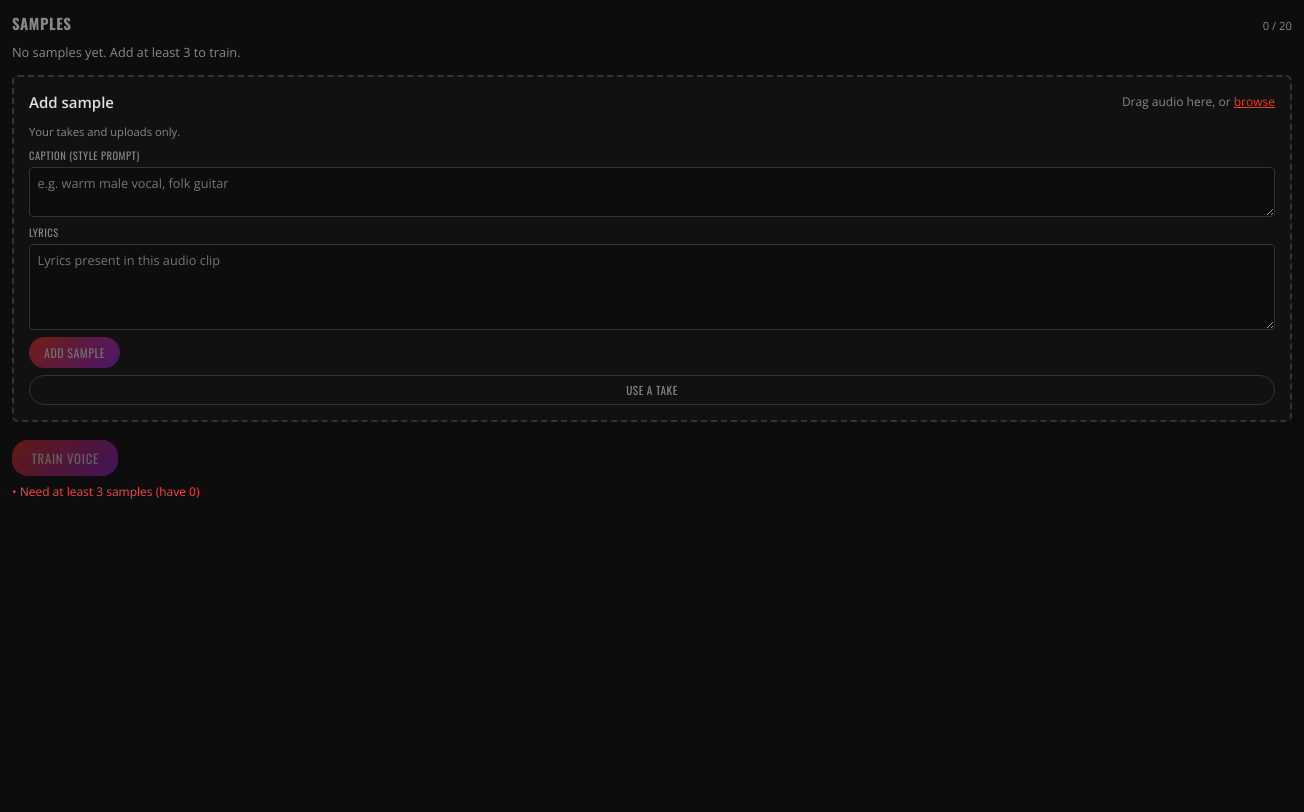
Test: LoraDetail › keeps the server 409 sentence visible when copying a take is rejected
The image size is (1304, 812).
What coordinates should you click on to do the following:
click the button with class "own-takes-toggle"
I would click on:
 (652, 390)
Its box is [29,375,1275,405].
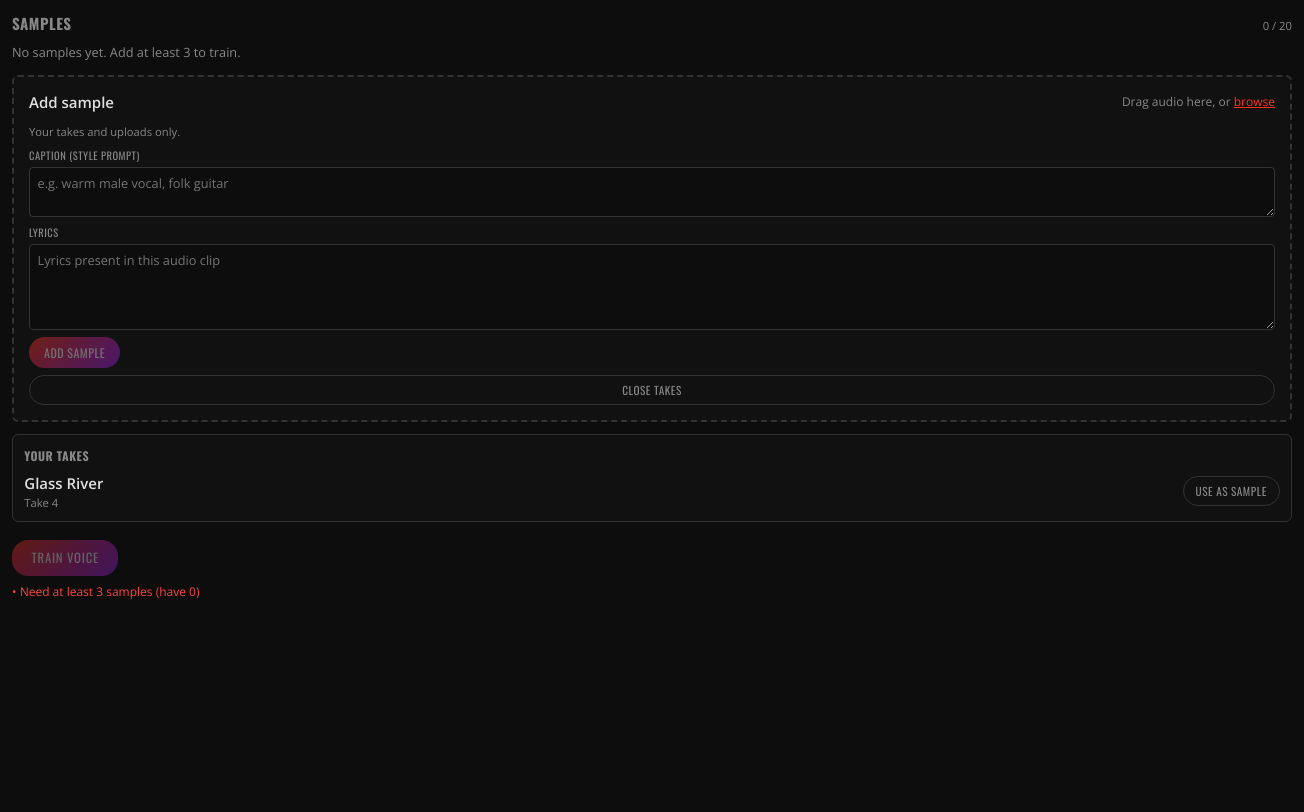
Expected: the button with class "use-take-btn" is shown
What coordinates should you click on to do the following:
click the button with class "use-take-btn"
I would click on:
 (1231, 491)
Its box is [1183,476,1280,506].
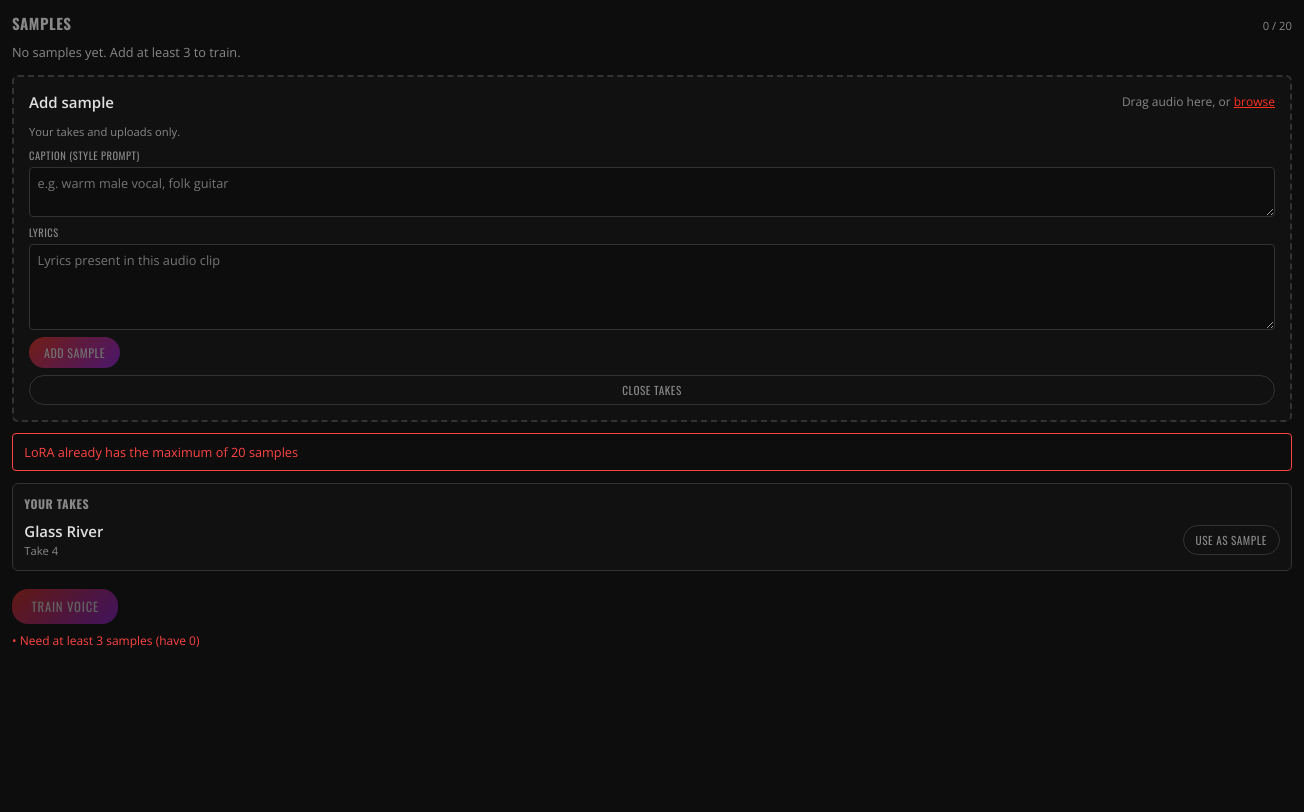
Expected: the message "LoRA already has the maximum of 20 samples" is shown, [12,433,1292,471]
